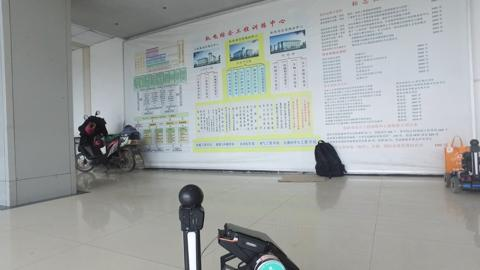bag: (313, 138, 347, 179), (441, 134, 471, 176)
chariot: (443, 138, 480, 194)
